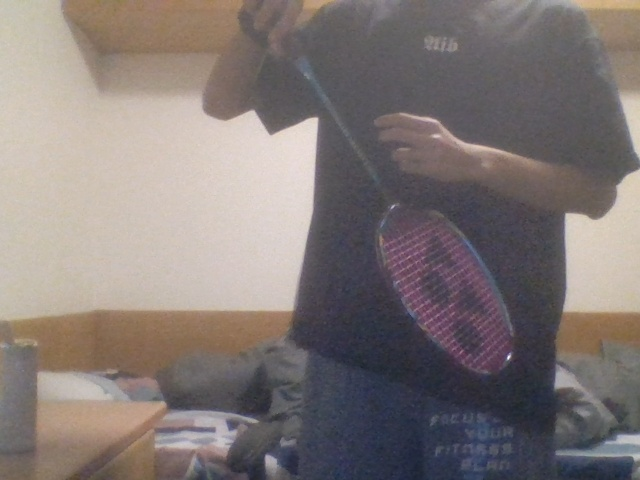human: (201, 1, 640, 480)
racket: (237, 2, 518, 379)
